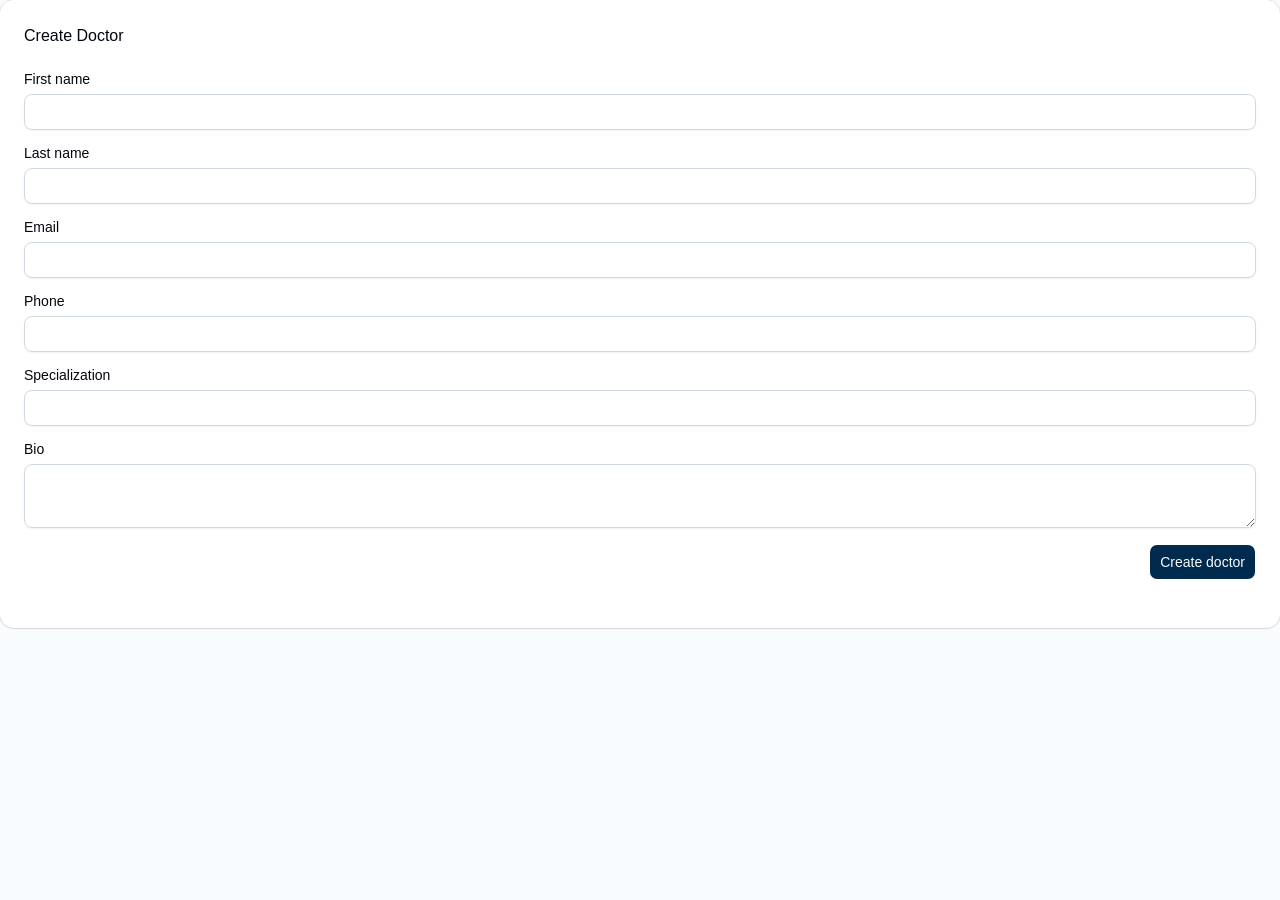
doctors-admin conflict handling › preserves create form values when the backend reports a duplicate email
Type "Sara" into the field labelled "First name" at [640, 112], box [24,94,1256,130]
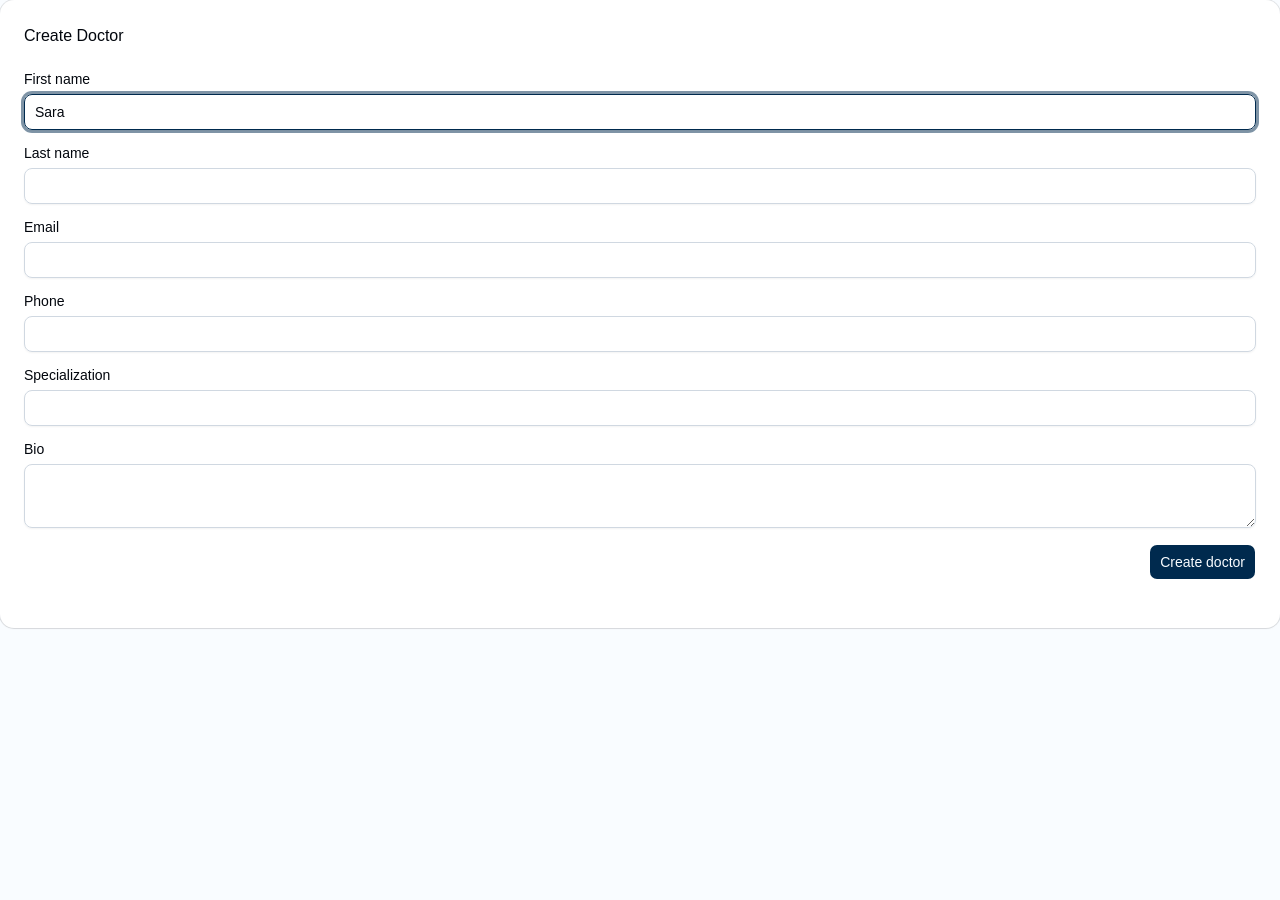
Type "Ahmed" into the field labelled "Last name" at [640, 186], box [24,168,1256,204]
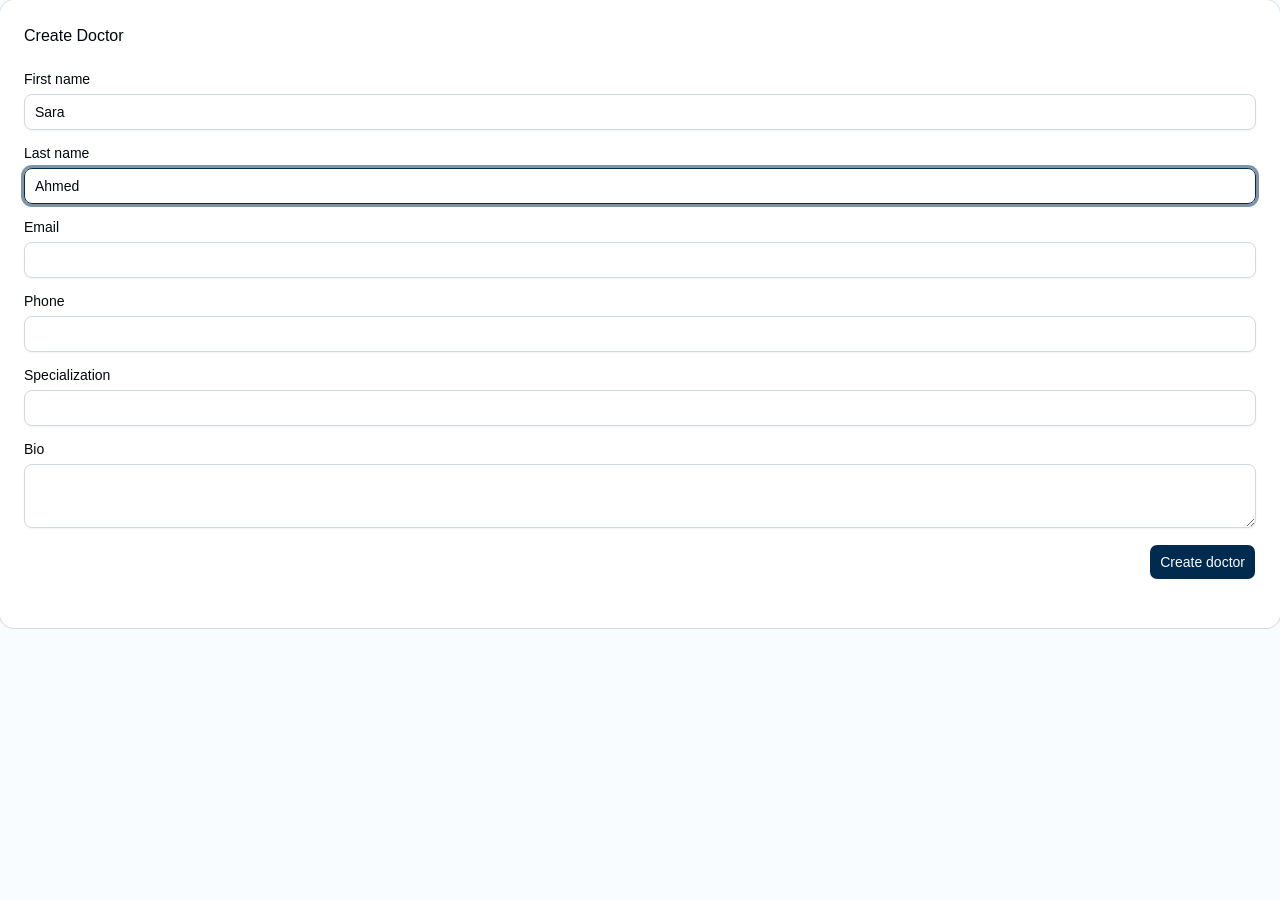
Type "sara@example.com" into the field labelled "Email" at [640, 260], box [24,242,1256,278]
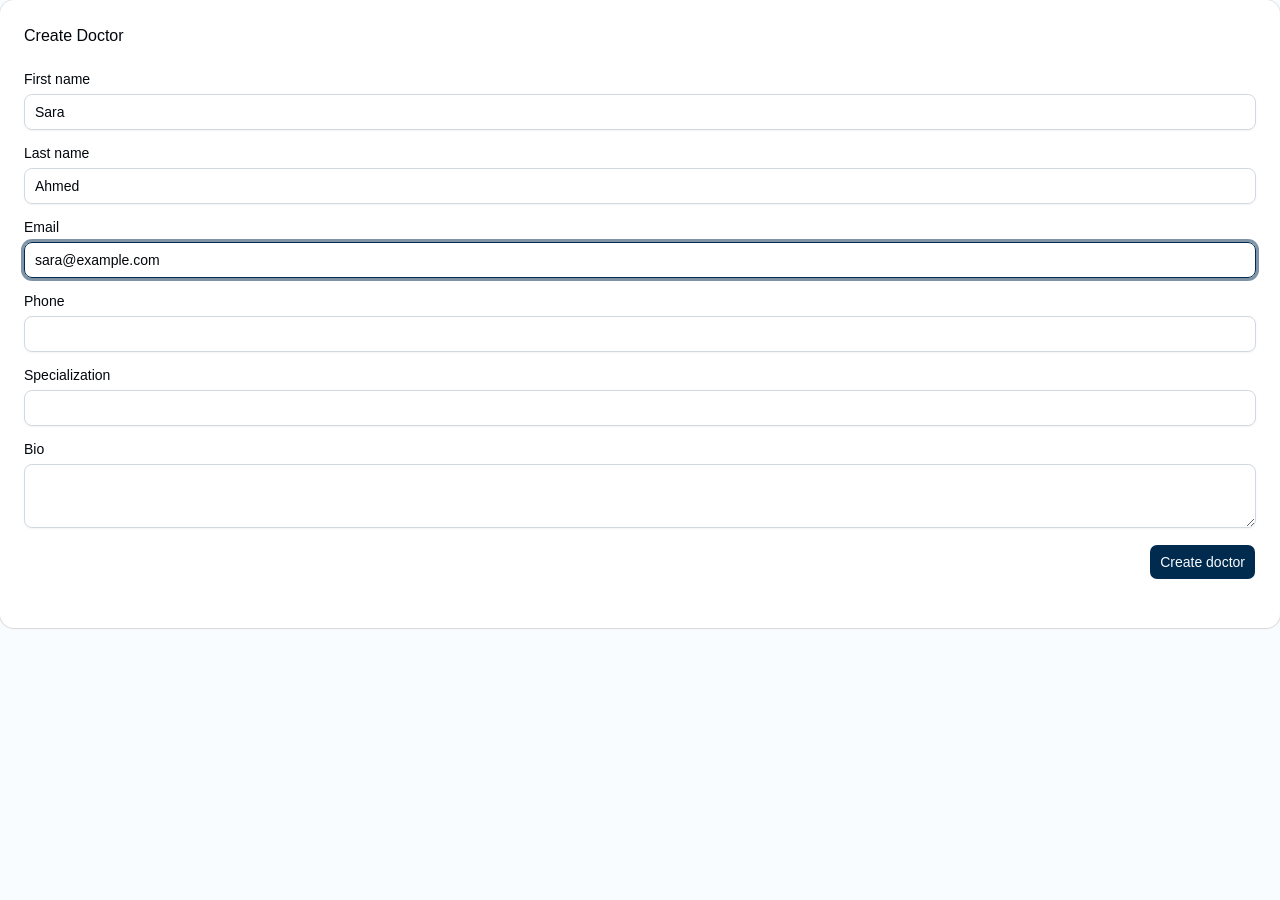
Click the button "Create doctor" at [1203, 562], box [1149,544,1256,580]
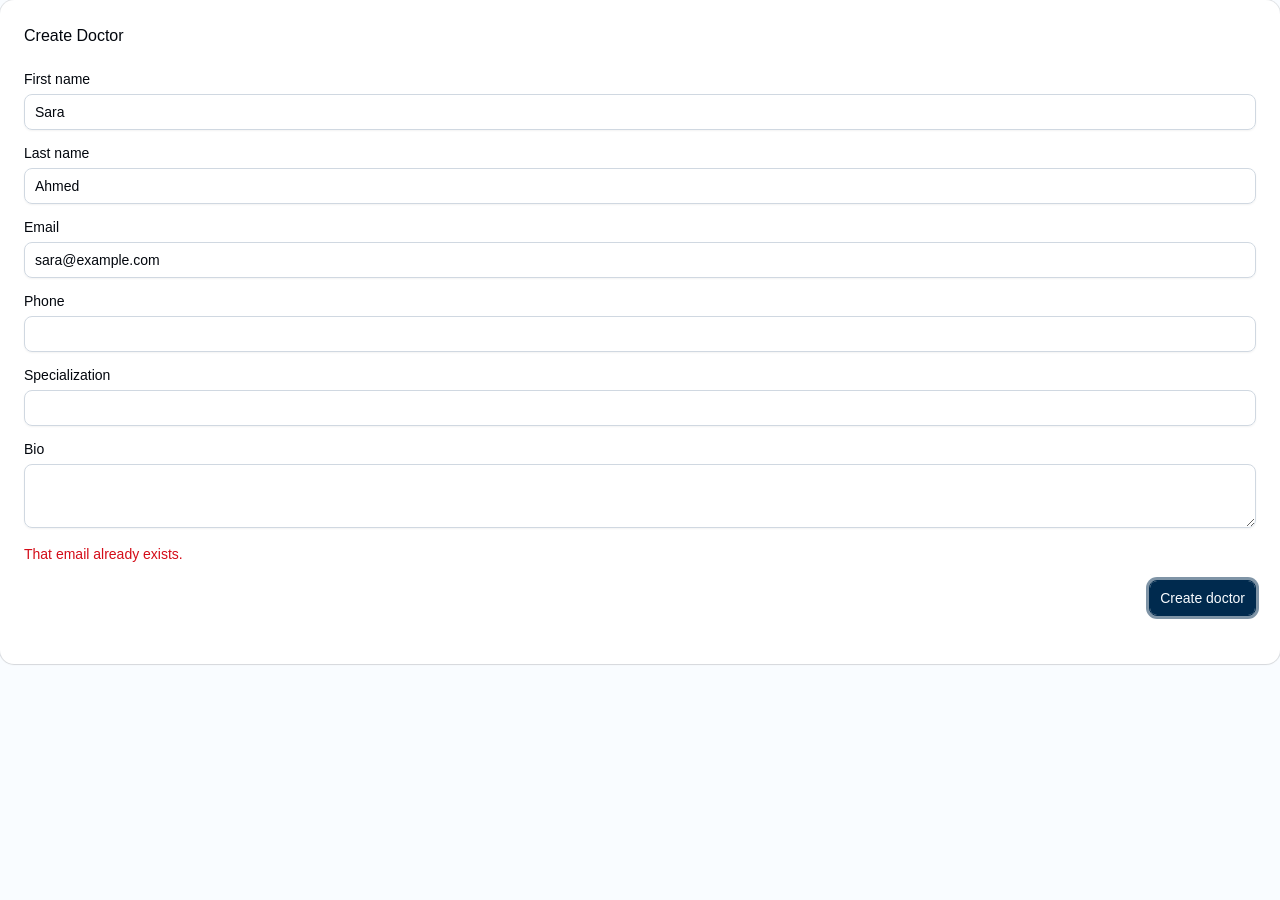
Check: the text "That email already exists." is shown, box [24,546,183,562]
